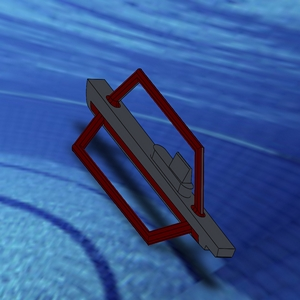submarine: (37, 46, 255, 278)
